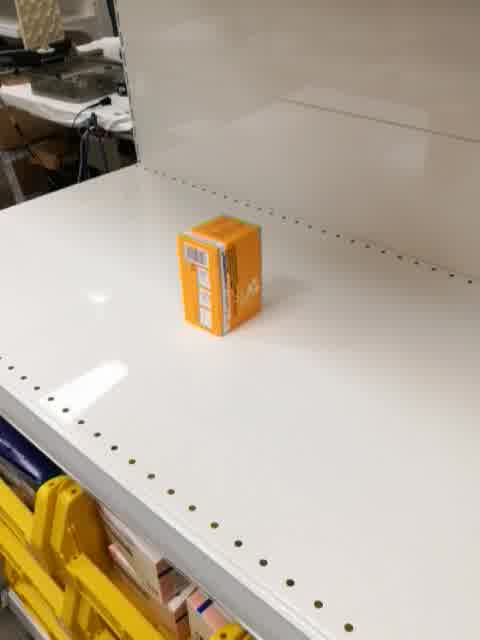jasminetea: (177, 215, 262, 337)
